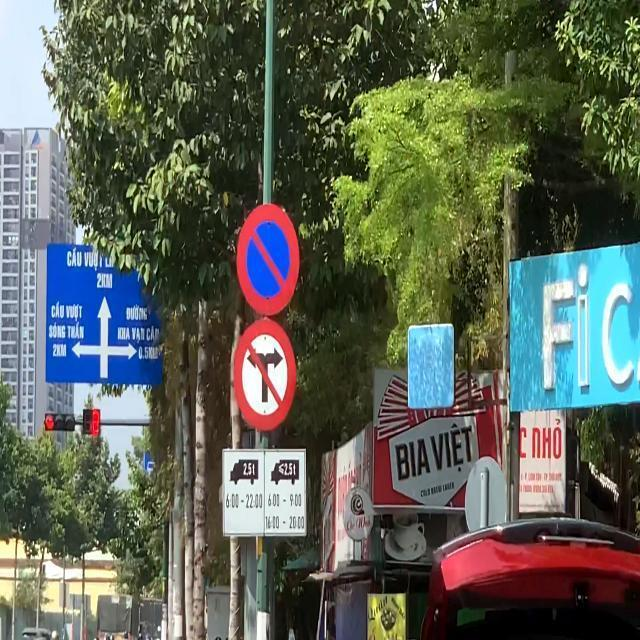131a-cam-do-xe: (236, 208, 300, 312)
137-cam-re-trai-va-re-phai: (232, 320, 298, 428)
